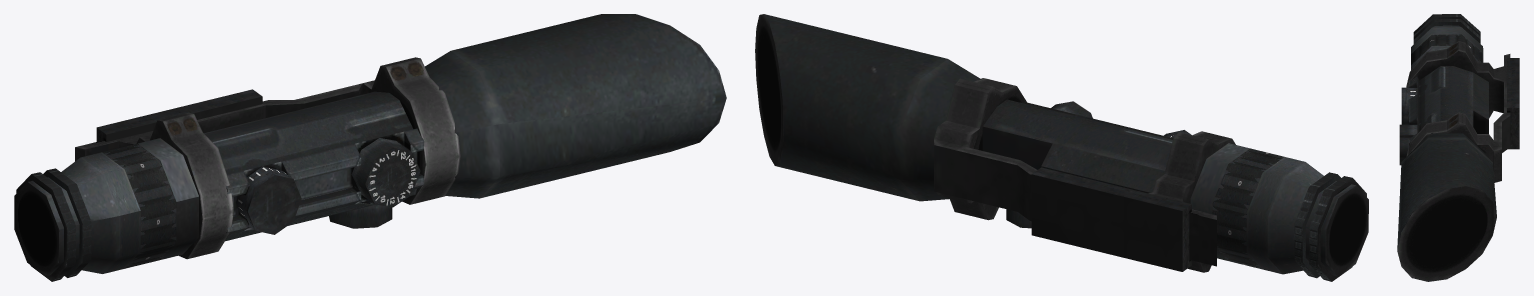
Rendered from t6_wpn_sniper_svu_scope_world_LOD0.obj.
3 renders of one model, left to right at view 1: azimuth 30°, elevation 25°; view 2: azimuth 150°, elevation 25°; view 3: azimuth 270°, elevation 25°, orthographic. The views are drawn at different scales.
Visible parts, largest first — view 1: mtl_t6_wpn_sniper_svu_scope, mtl_t6_wpn_sniper_svu_scope_camo2; view 2: mtl_t6_wpn_sniper_svu_scope, mtl_t6_wpn_sniper_svu_scope_camo2; view 3: mtl_t6_wpn_sniper_svu_scope, mtl_t6_wpn_sniper_svu_scope_camo2.
Boxes of the visible parts, box(x1,y1,x2,y2) form: mtl_t6_wpn_sniper_svu_scope: box(14, 14, 726, 276); mtl_t6_wpn_sniper_svu_scope_camo2: box(16, 57, 460, 281); mtl_t6_wpn_sniper_svu_scope: box(755, 14, 1368, 276); mtl_t6_wpn_sniper_svu_scope_camo2: box(946, 78, 1366, 281); mtl_t6_wpn_sniper_svu_scope: box(1397, 25, 1519, 281); mtl_t6_wpn_sniper_svu_scope_camo2: box(1399, 14, 1519, 165).
Bounding box in the file's own units: 26.67 × 5.4 × 6.63.
